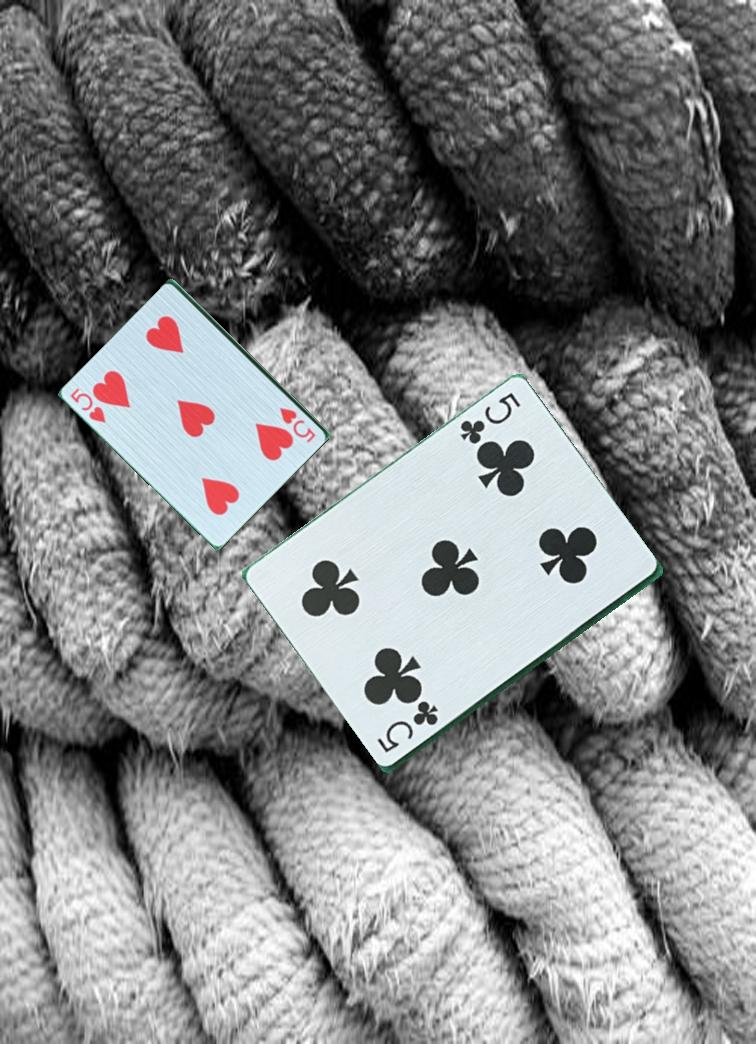5c: (451, 388, 524, 447), (370, 698, 442, 755)
5h: (276, 404, 319, 446), (67, 384, 110, 426)
